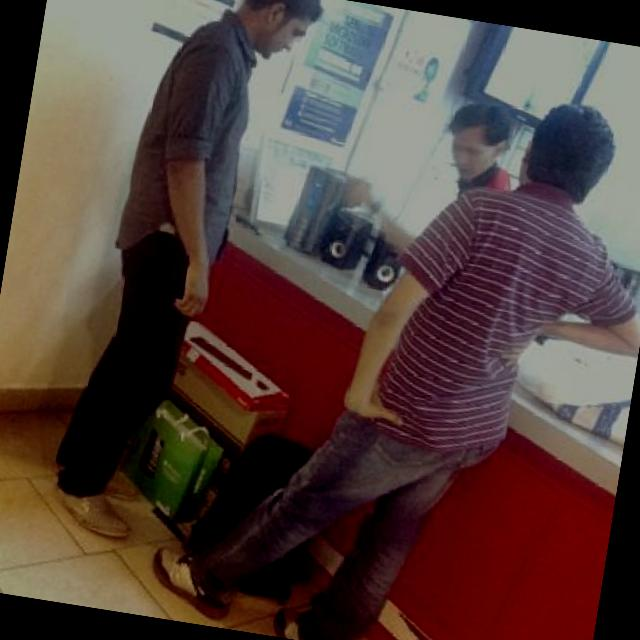Person: (137, 46, 640, 640), (51, 0, 298, 533), (358, 82, 521, 277)
